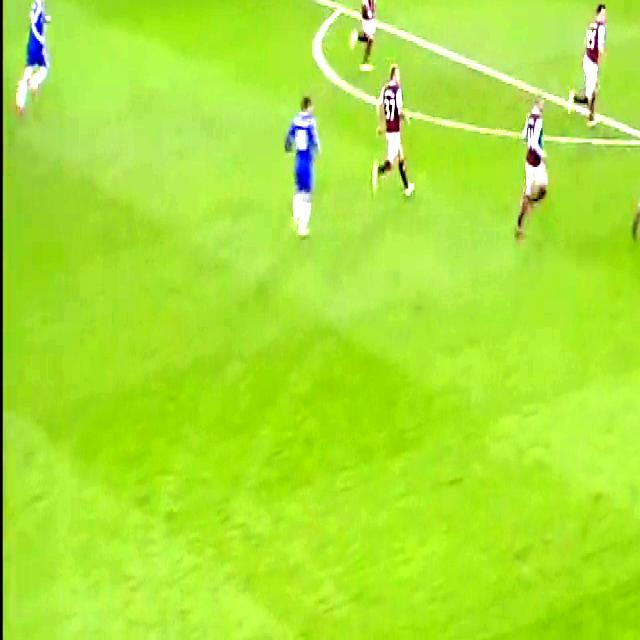soccer-player: (371, 53, 420, 208), (279, 85, 325, 249), (513, 92, 558, 248), (567, 0, 613, 133), (12, 0, 57, 114), (348, 0, 383, 80), (630, 78, 640, 251)
